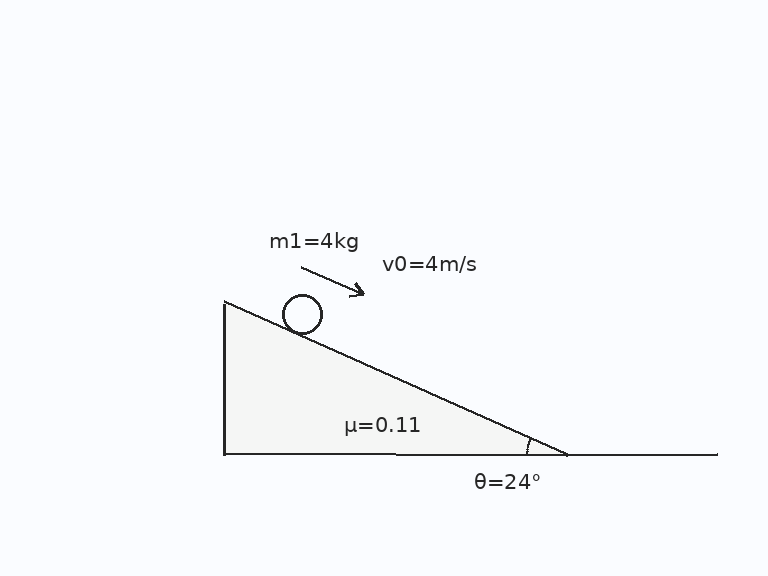ball: (280, 292, 324, 336)
ramp: (222, 299, 569, 456)
